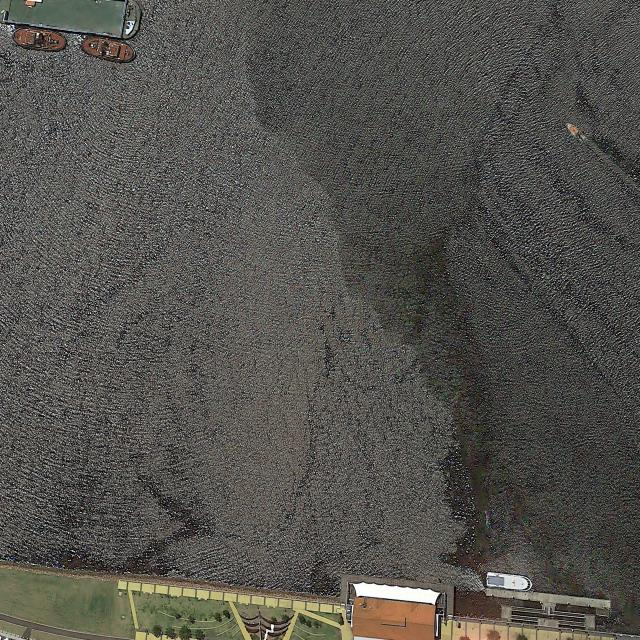ship: (80, 34, 136, 64), (11, 27, 67, 52), (485, 571, 533, 592), (566, 122, 586, 142)
